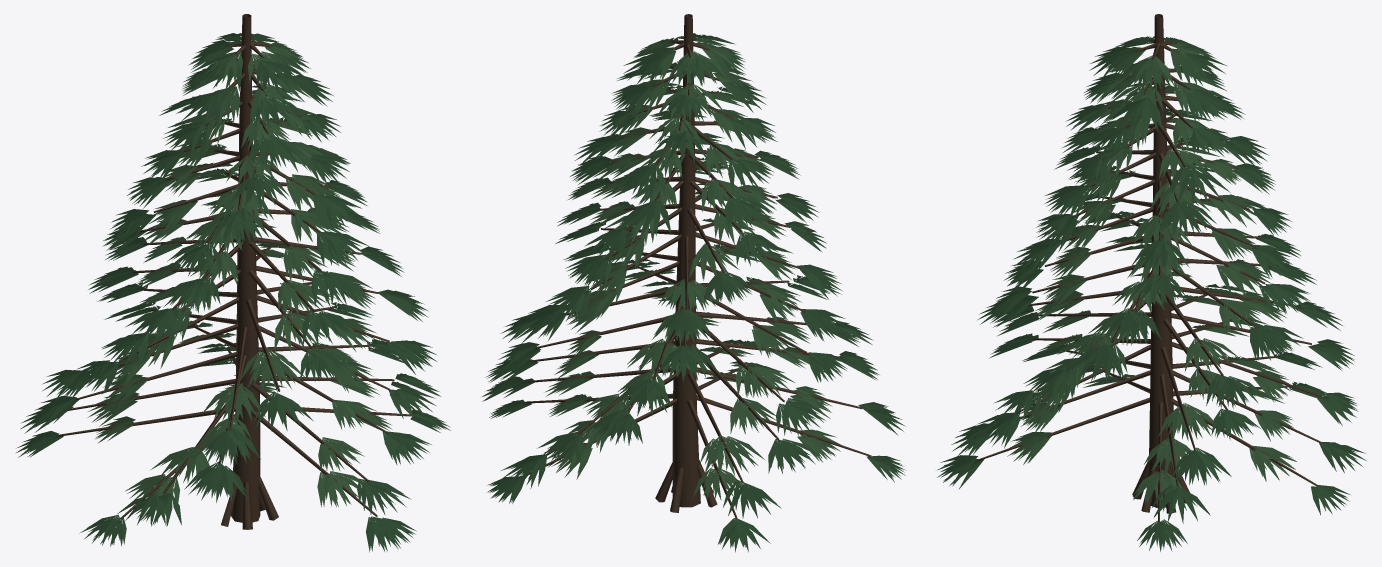
Rendered from pine_0.glb.
The picture shows the model from 3 angles, left to right: view 1: azimuth 30°, elevation 25°; view 2: azimuth 150°, elevation 25°; view 3: azimuth 270°, elevation 25°; orthographic projection. The views are drawn at different scales.
Visible parts, largest first — view 1: pine_0_LOD0; view 2: pine_0_LOD0; view 3: pine_0_LOD0.
Part boxes in pixels (x1=…): pine_0_LOD0: x1=15, y1=14, x2=450, y2=552; pine_0_LOD0: x1=481, y1=14, x2=905, y2=552; pine_0_LOD0: x1=937, y1=14, x2=1366, y2=551.
Size of what is drawn, in the model's own units: 1.82 by 2.23 by 1.79.
